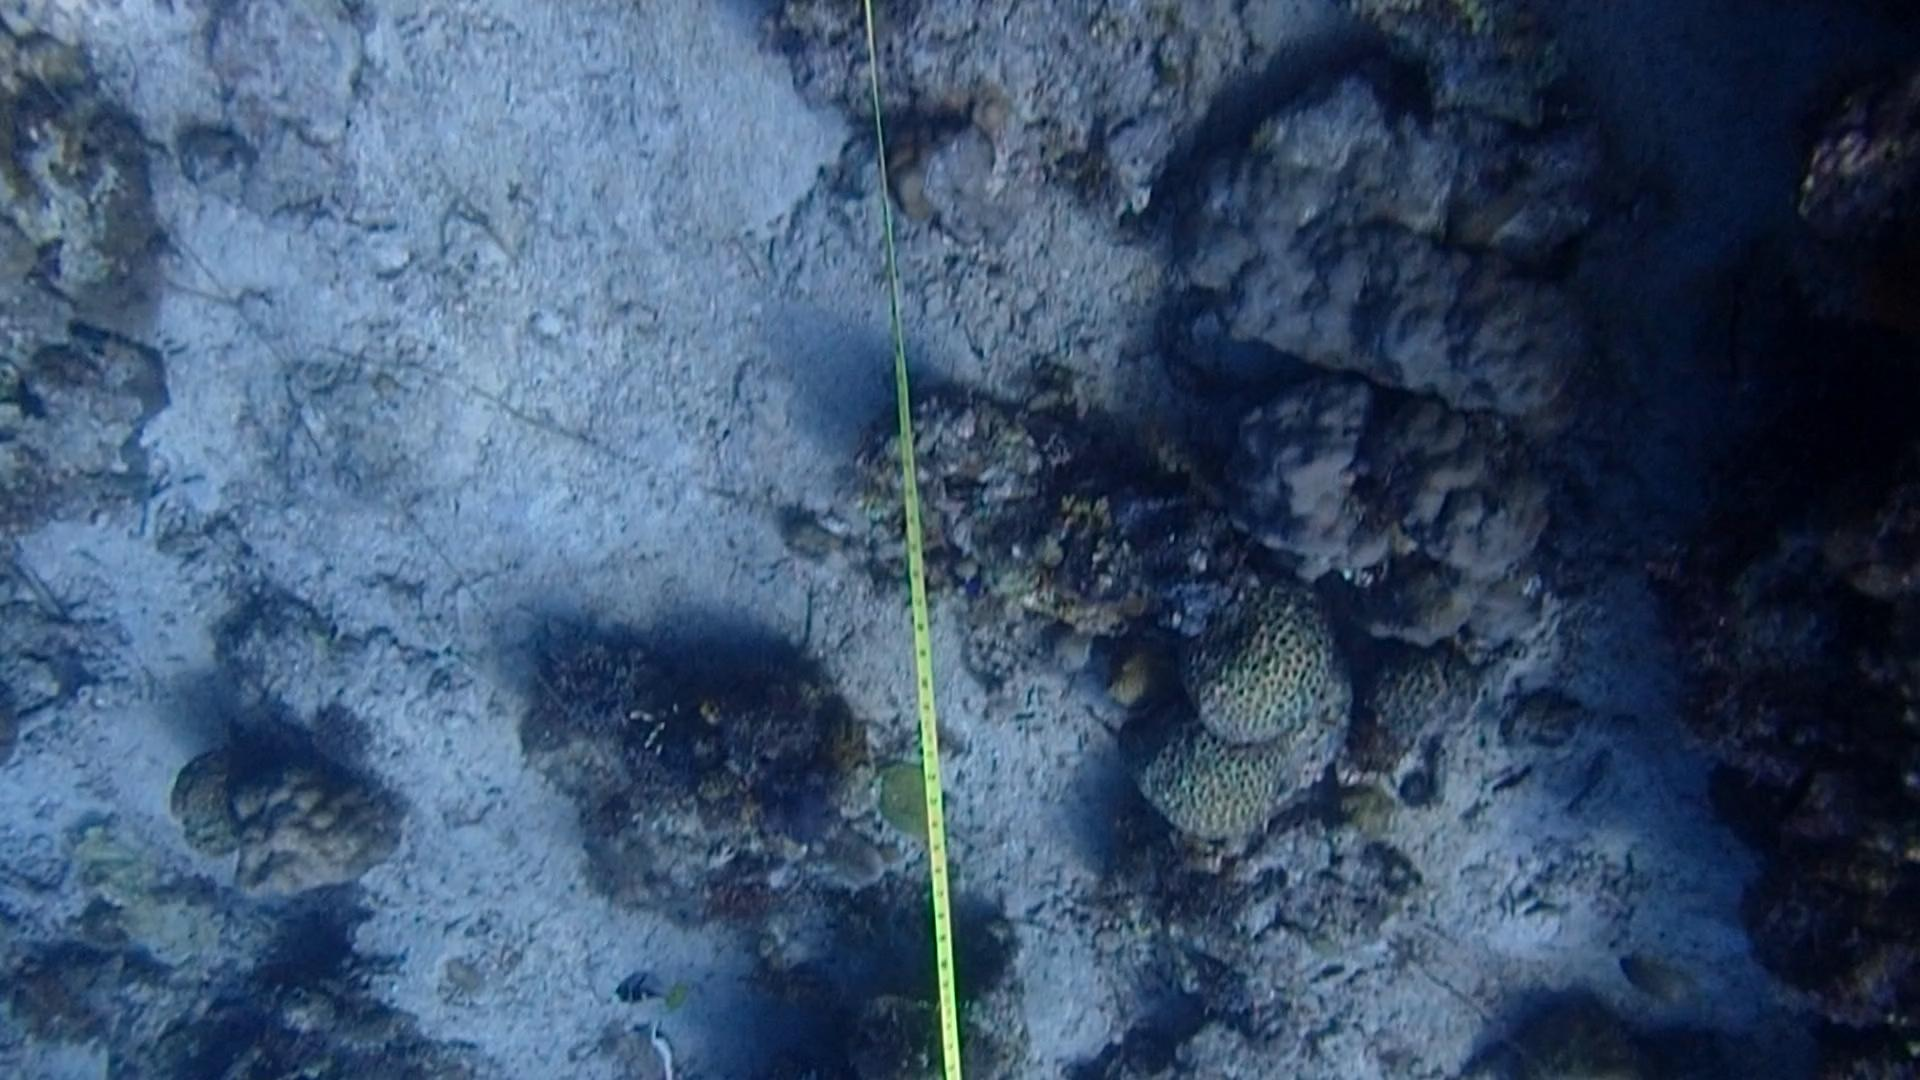Striped Fish: (604, 960, 699, 1011)
